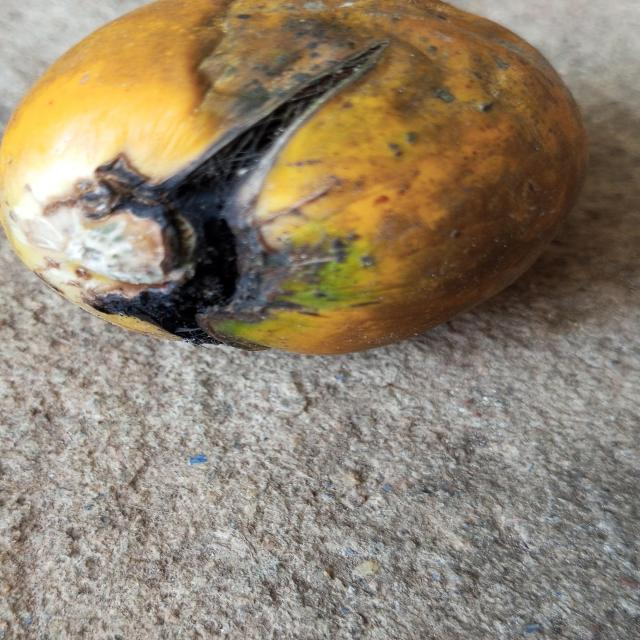damaged: (0, 0, 589, 358)
